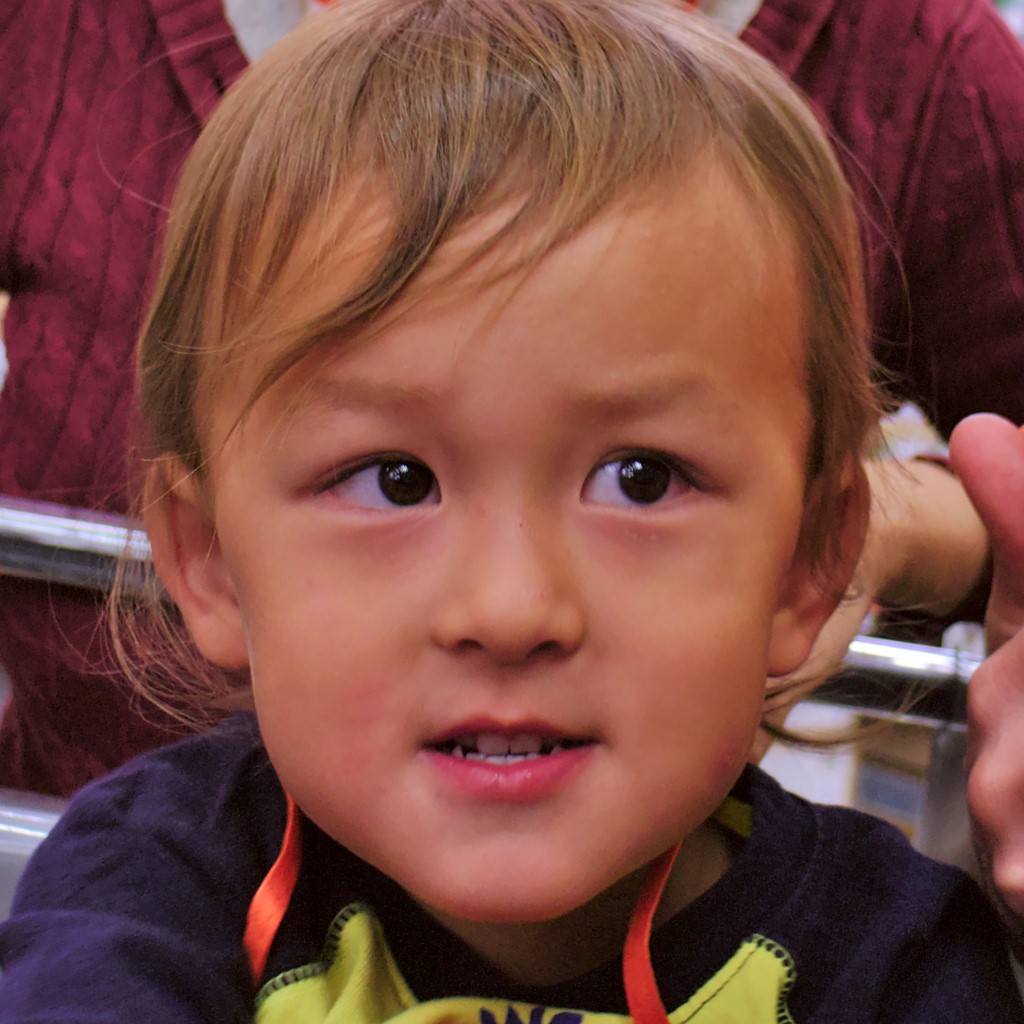sin_mascara: (199, 104, 795, 905)
